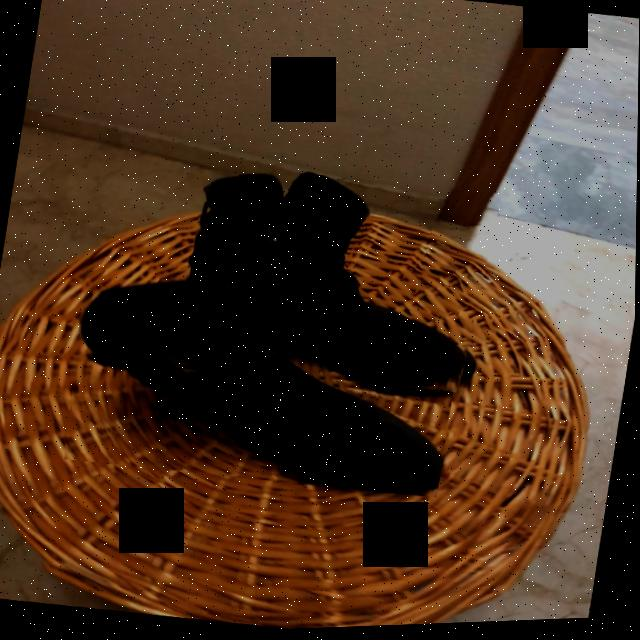shoe: (81, 283, 444, 498), (189, 176, 468, 391)
